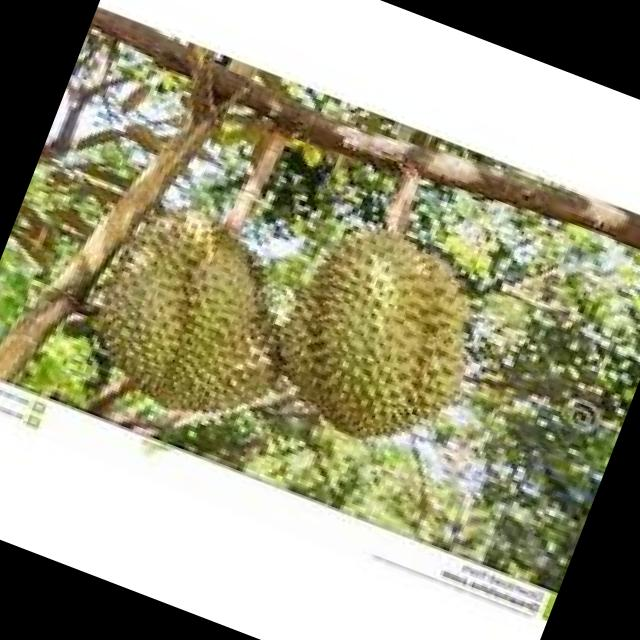fruit: (235, 178, 532, 490), (52, 165, 325, 449)
